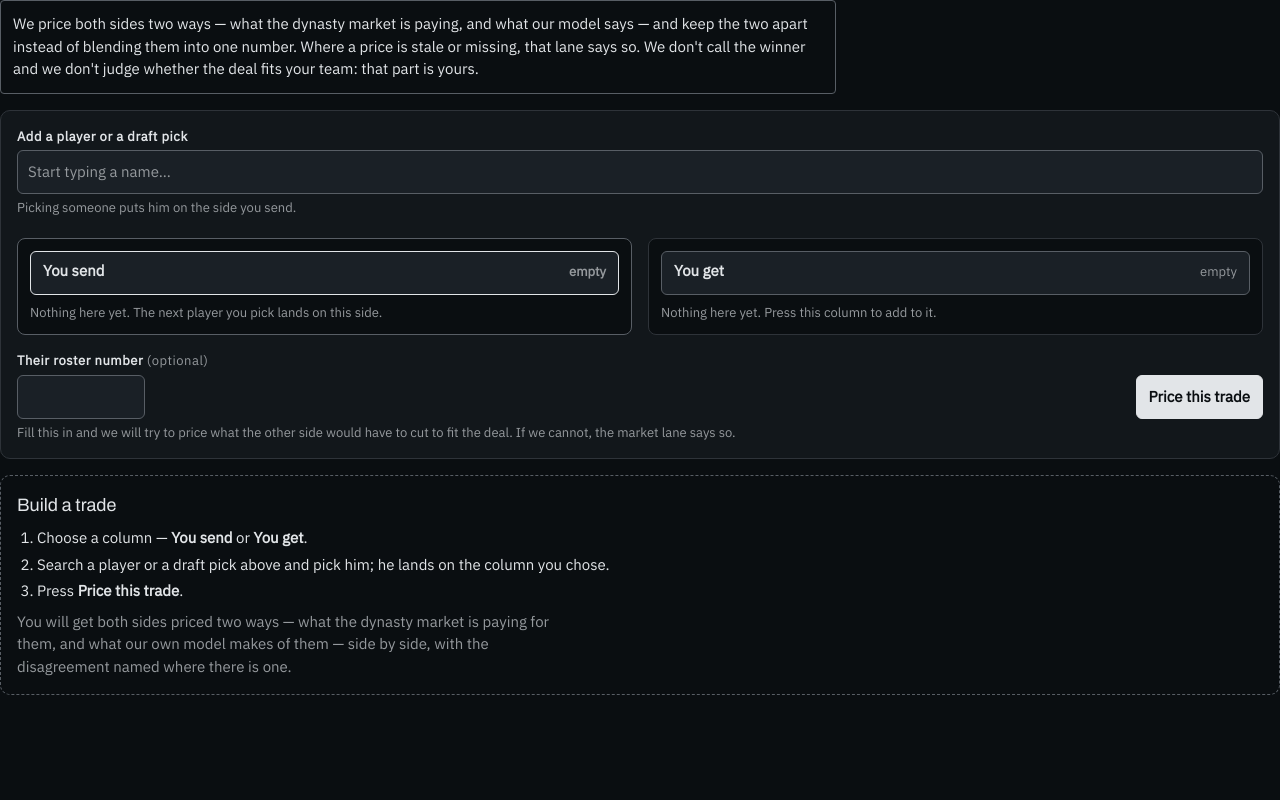
Trade Lab — both prices, plainly › does not keep a priced verdict standing over a board that has changed
The image size is (1280, 800).
Type "cha" into the search field.
click(640, 172); type("cha")  # box [17, 150, 1263, 194]
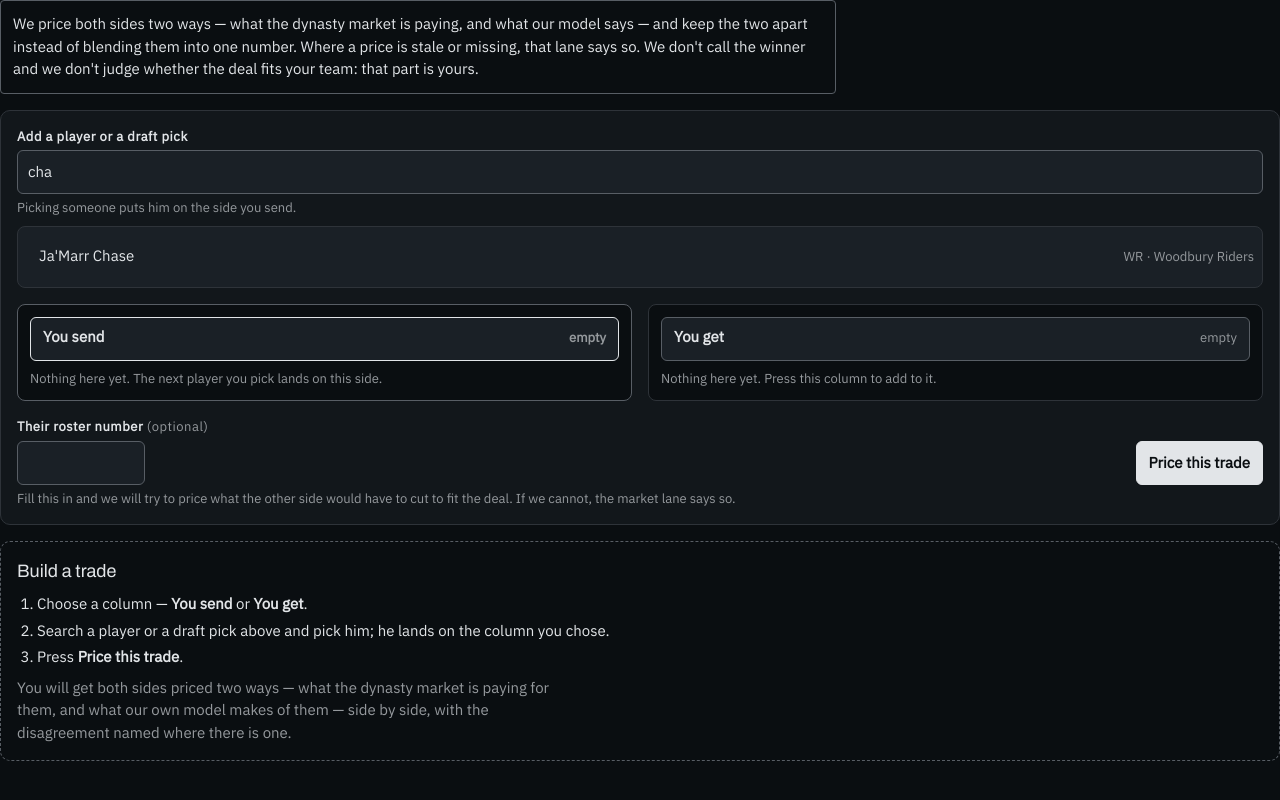
Click the button "Ja'Marr Chase".
click(87, 256)  # box [26, 234, 1116, 278]
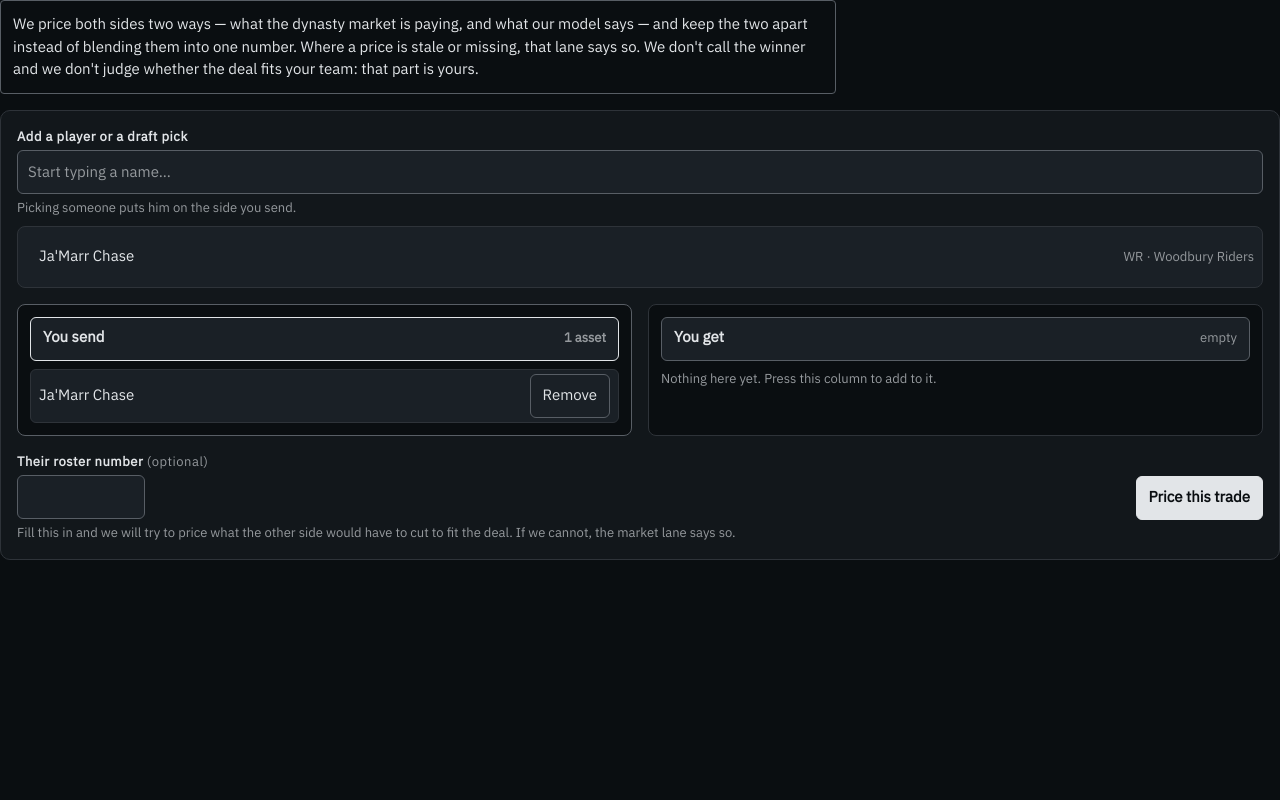
Click the button "Price this trade".
click(1199, 498)  # box [1136, 476, 1263, 520]
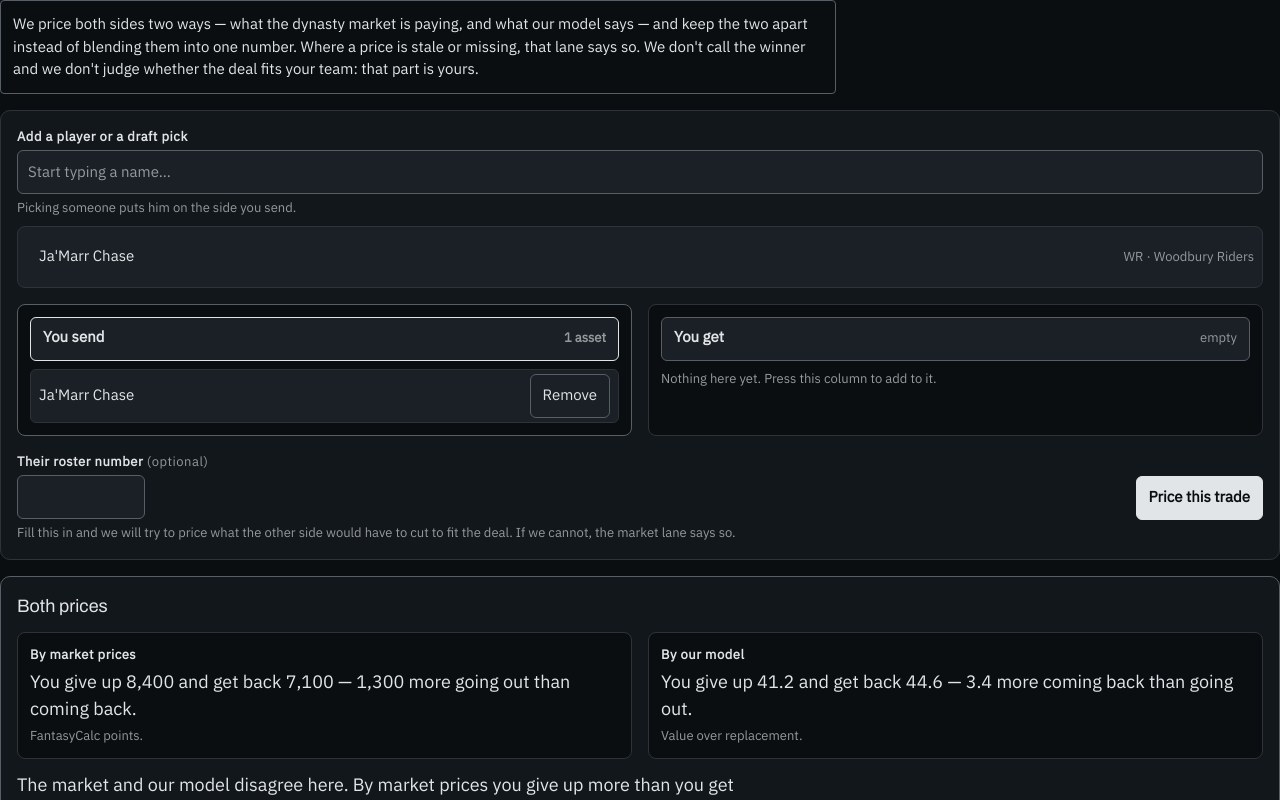
Expected: the heading "Build a trade" is not shown
Click the button with aria-label "remove Ja'Marr Chase".
click(570, 396)  # box [530, 374, 610, 418]
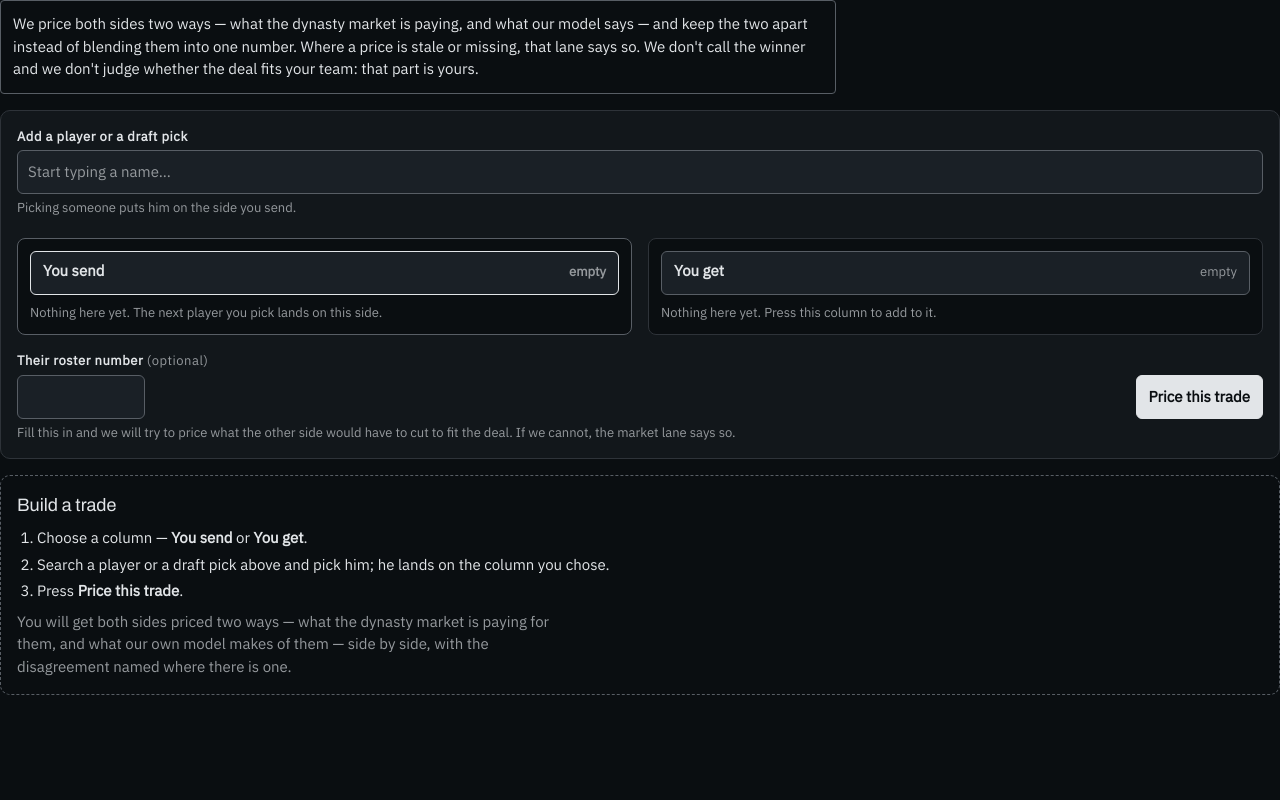
Result: the element "Build a trade" is shown at [0, 475, 1279, 695]
Result: the text "8,400" is gone
